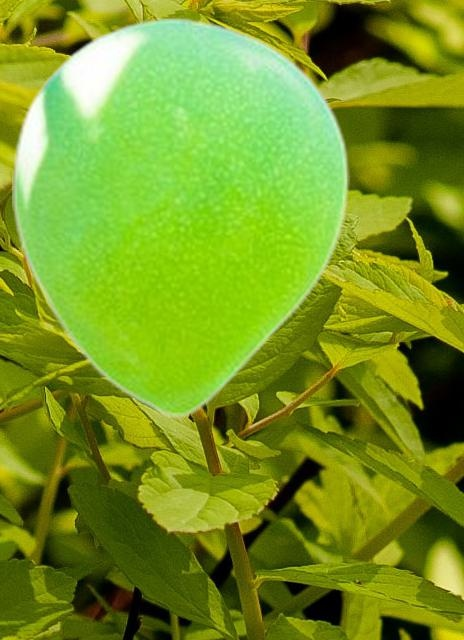green_mango: (12, 16, 348, 418)
